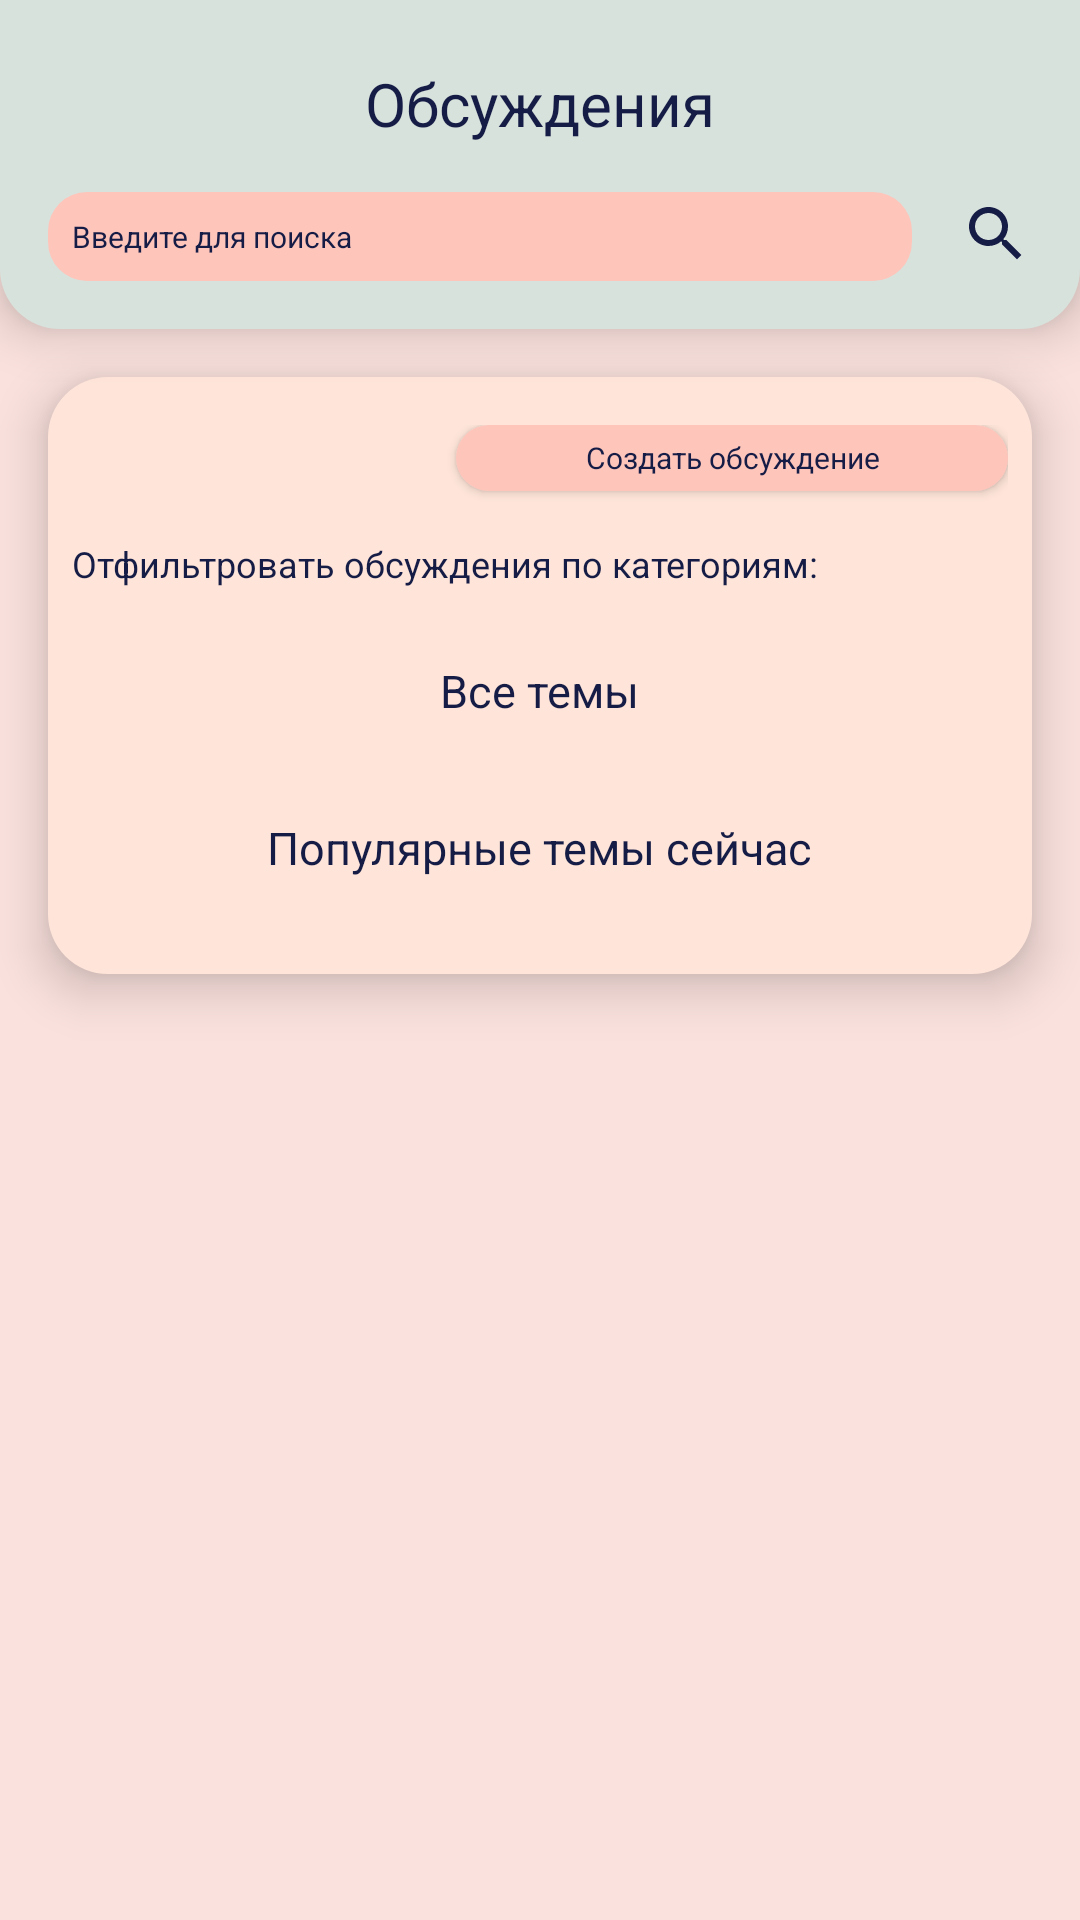

Point at icon controls on the screen. Image size 1080 × 1920, points as point (x, y).
search: point (995, 233)
